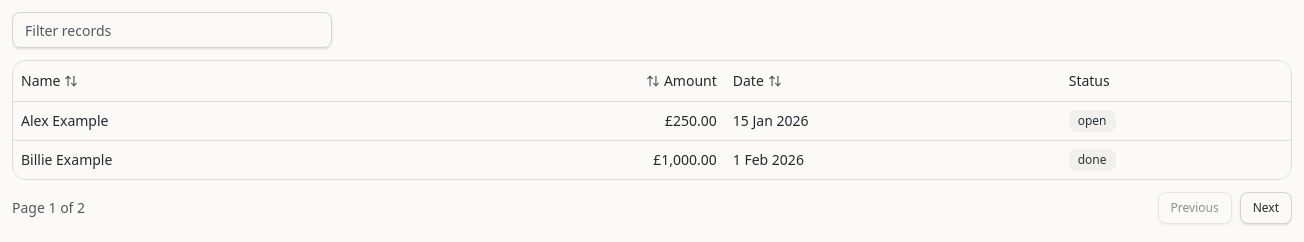
it: DataTable › paginates with previous and next controls
The width and height of the screenshot is (1304, 242).
Expected: the text "Page 1 of 2" is shown, [12,198,85,218]
Expected: the text "Alex Example" is shown, [13,101,406,140]
Click the button "Next" at {"x": 1266, "y": 208}, box [1240,192,1292,224]
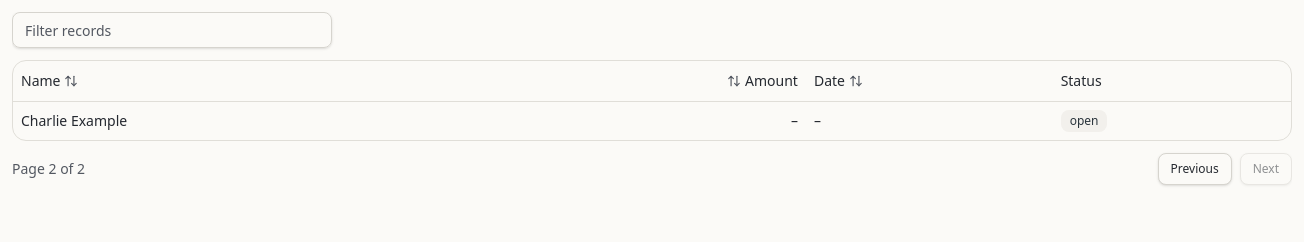
Result: the text "Page 2 of 2" is shown at [12,158,85,178]
Result: the text "Charlie Example" is shown at [13,101,476,140]
Result: the text "Alex Example" is gone
